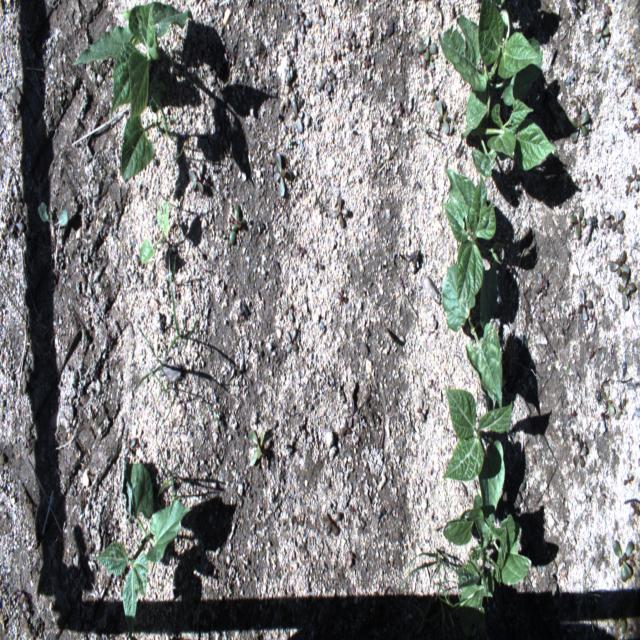crop: (72, 0, 192, 183), (94, 456, 192, 640), (438, 0, 542, 138), (442, 492, 532, 638), (444, 388, 513, 522), (441, 167, 503, 310), (440, 264, 502, 406), (471, 96, 557, 180)
weed: (398, 550, 466, 634), (162, 255, 199, 354), (139, 198, 170, 266), (137, 324, 167, 390), (272, 149, 294, 198), (568, 98, 591, 144), (617, 268, 638, 310), (612, 542, 632, 583), (566, 204, 588, 240), (248, 426, 266, 469), (38, 202, 69, 225), (290, 96, 306, 138), (592, 15, 610, 52), (418, 35, 438, 66), (316, 64, 336, 94), (572, 435, 590, 468), (283, 324, 301, 356), (332, 195, 348, 230), (608, 250, 628, 276), (623, 164, 639, 194), (611, 207, 627, 234), (231, 205, 240, 246), (436, 101, 448, 130), (598, 206, 612, 230), (213, 410, 219, 429), (286, 137, 293, 150)
